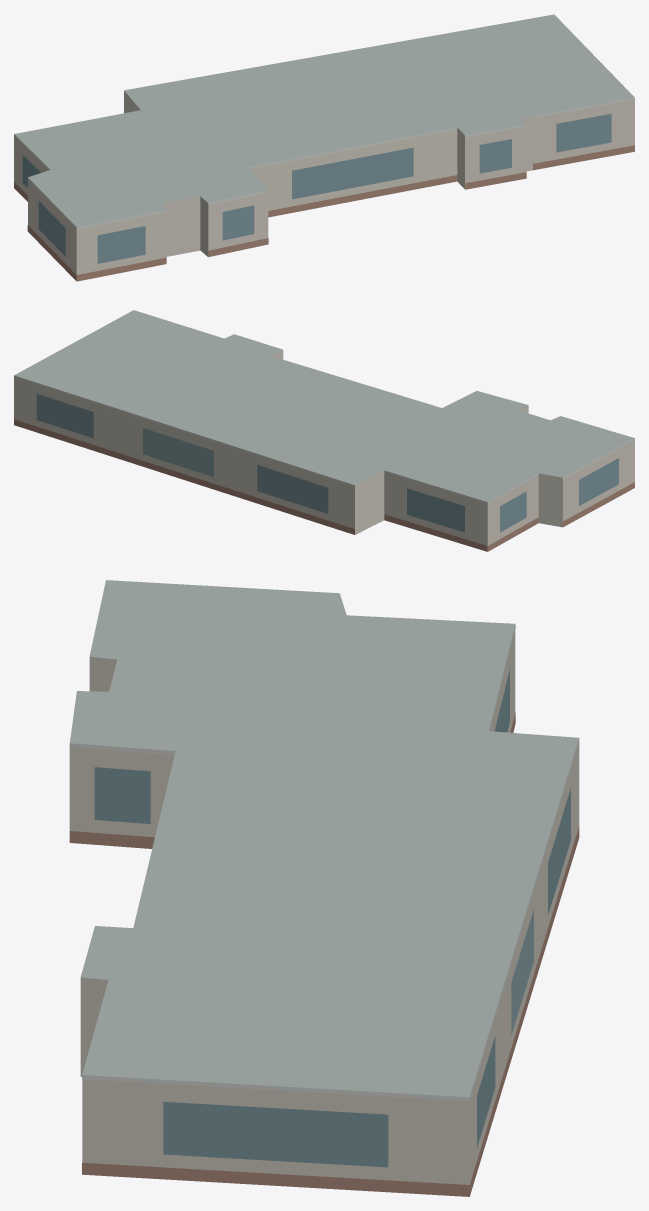
The model's file is survey-upis-32946844.glb.
3 views of the same model, one above another, from view 1: azimuth 30°, elevation 25°; view 2: azimuth 150°, elevation 25°; view 3: azimuth 270°, elevation 25° (orthographic). The views are drawn at different scales.
Parts seen in each view (by area): view 1: survey-upis-32946844.tmp; view 2: survey-upis-32946844.tmp; view 3: survey-upis-32946844.tmp.
Part boxes in pixels (x1,y1,x2,y2): survey-upis-32946844.tmp: (14, 14, 634, 281); survey-upis-32946844.tmp: (14, 310, 634, 551); survey-upis-32946844.tmp: (69, 580, 579, 1196).
Bounding box in the file's own units: 33.98 × 3.05 × 14.15.
